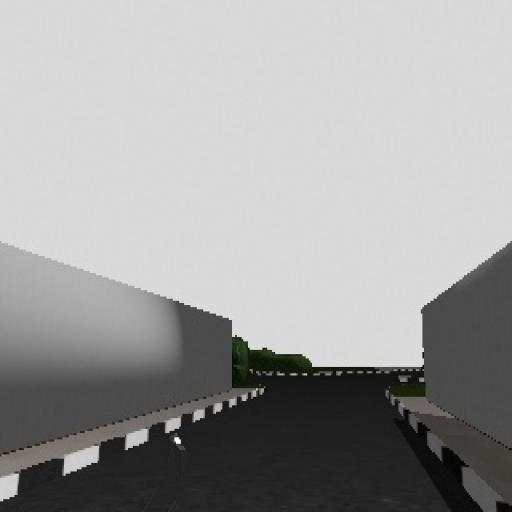huskya200: (124, 428, 225, 512)
